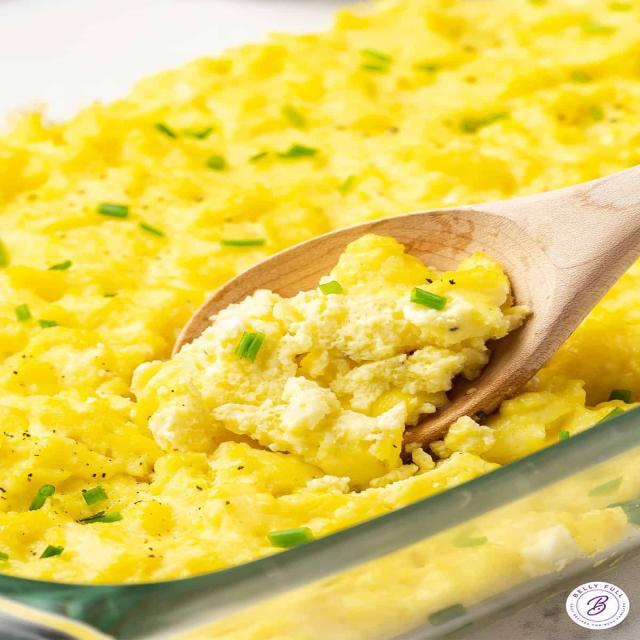eggs: (22, 0, 624, 594)
